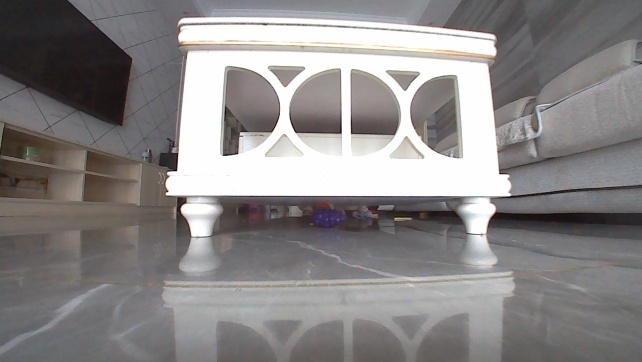TV_stand: (0, 114, 175, 219)
sofa: (386, 0, 641, 218)
tea_table: (163, 8, 513, 242)
